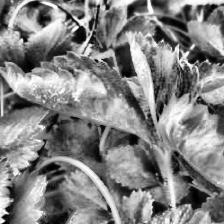Powdery Mildew Leaf: (0, 50, 157, 145), (156, 92, 224, 203)
